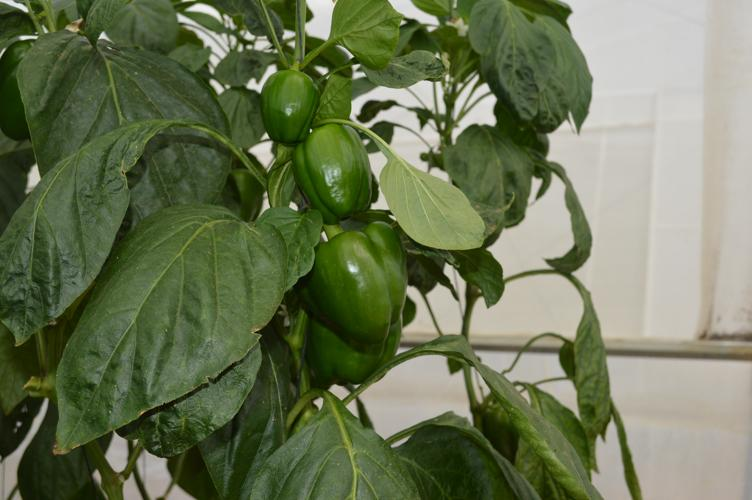BellPepper: (301, 222, 409, 338), (291, 123, 373, 223), (306, 318, 404, 390), (260, 69, 319, 144)
